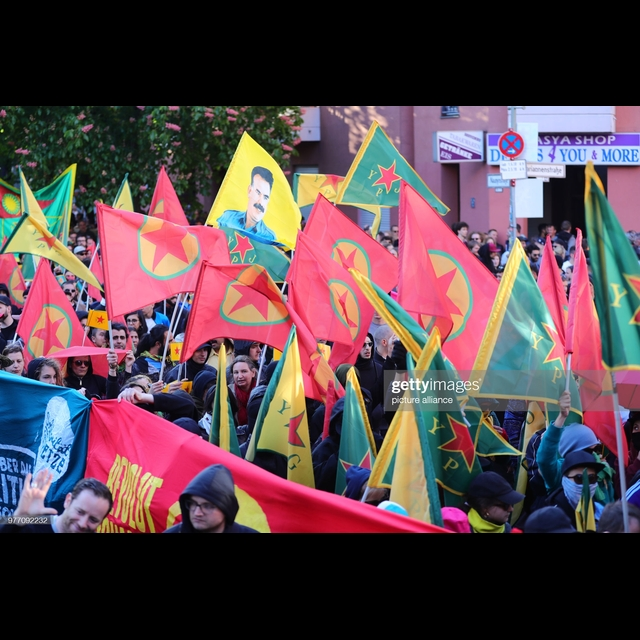APO: (238, 161, 277, 220)
PKK: (223, 261, 292, 329), (130, 214, 200, 280)
